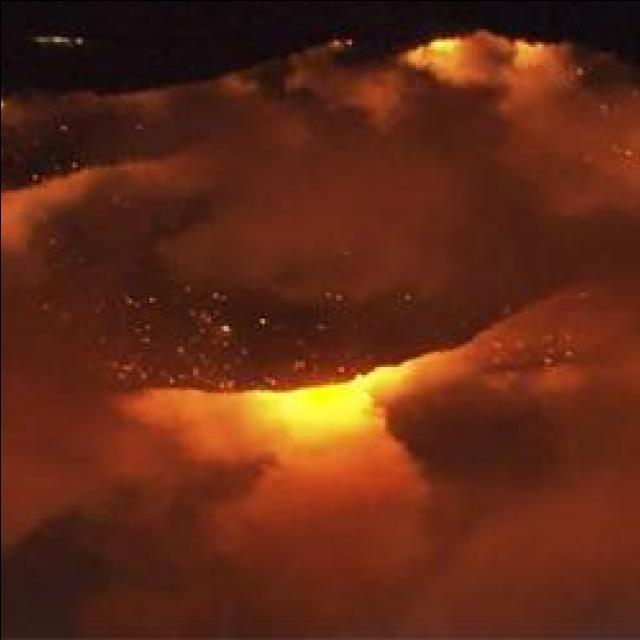fire: (255, 384, 373, 434)
smoke: (142, 117, 462, 306), (498, 316, 640, 636), (0, 281, 146, 571), (179, 438, 430, 584), (465, 64, 640, 226), (0, 185, 65, 311)
